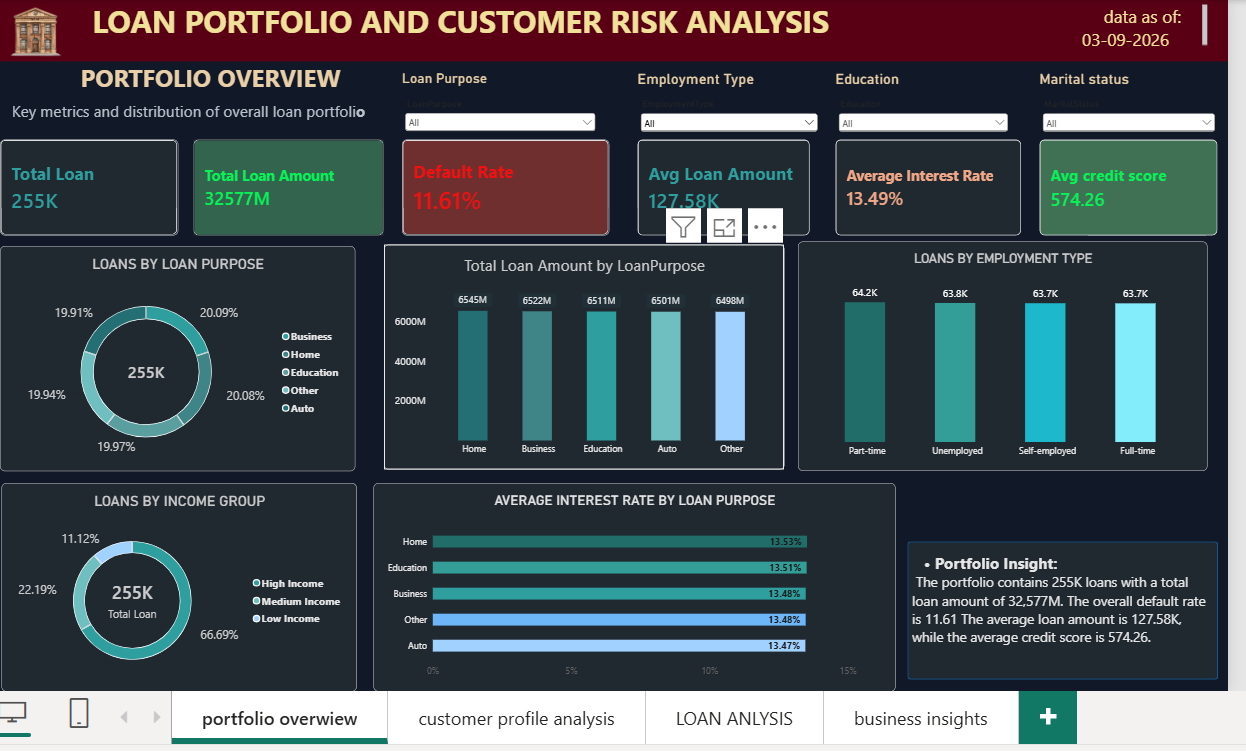

Layout of this report page (visuals, bound fields, positions):
{"tool":"powerbi","page":{"name":"portfolio overwiew","canvas":[1920,1080],"ordinal":0},"visuals":[{"type":"shape","box":[0,0,1920.1,96.1],"z":0},{"type":"textbox","box":[0,0,1920.1,96.1],"z":1000},{"type":"image","box":[0,9.4,112.5,79.7],"z":2000},{"type":"textbox","box":[1690.4,7,196.9,89.1],"z":3000},{"type":"textbox","box":[0,96.1,555.6,61],"z":4000},{"type":"textbox","box":[18.8,157.1,581.4,61],"z":5000},{"type":"slicer","title":"Loan Purpose","fields":{"Values":["Loan_data.LoanPurpose"]},"box":[628.3,110.2,307.1,107.8],"z":6000},{"type":"slicer","title":"Employment Type","fields":{"Values":["Loan_data.EmploymentType"]},"box":[996.4,110.2,286,126.6],"z":7000},{"type":"slicer","title":"Education","fields":{"Values":["Loan_data.Education"]},"box":[1305.9,110.2,274.3,126.6],"z":8000},{"type":"slicer","title":"Marital status","fields":{"Values":["Loan_data.MaritalStatus"]},"box":[1624.7,110.2,279,126.6],"z":9000},{"type":"cardVisual","fields":{"Data":["Loan_data.Total Loan"]},"box":[0,218,279,150],"z":10000},{"type":"cardVisual","fields":{"Data":["Loan_data.Total Loan Amount"]},"box":[302.4,218,297.7,150],"z":11000},{"type":"cardVisual","fields":{"Data":["Loan_data.Average Interest Rate"]},"box":[1305.9,218,290.7,150],"z":12000},{"type":"cardVisual","fields":{"Data":["Loan_data.Avg credit score"]},"box":[1624.7,218,279,150],"z":13000},{"type":"cardVisual","fields":{"Data":["Loan_data.Avg Loan Amount"]},"box":[996.4,218,269.6,150],"z":14000},{"type":"cardVisual","fields":{"Data":["Loan_data.Default Rate"]},"box":[628.3,218,324,150],"z":15000},{"type":"donutChart","title":"LOANS BY LOAN PURPOSE","fields":{"Category":["Loan_data.LoanPurpose"],"Y":["Loan_data.Total Loan"]},"box":[0,384.5,555.6,351.7],"z":16000},{"type":"donutChart","title":"LOANS BY INCOME GROUP","fields":{"Category":["Loan_data.Income group"],"Y":["Loan_data.Total Loan"]},"box":[2.3,754.9,555.6,325.9],"z":17000},{"type":"clusteredColumnChart","fields":{"Category":["Loan_data.LoanPurpose"],"Y":["Loan_data.Total Loan Amount"]},"box":[600.2,382.2,626,351.7],"z":18000},{"type":"clusteredColumnChart","title":"LOANS BY EMPLOYMENT TYPE","fields":{"Y":["Loan_data.Total Loan"],"Category":["Loan_data.EmploymentType"]},"box":[1247.3,377.5,640,358.7],"z":19000},{"type":"clusteredBarChart","title":"AVERAGE INTEREST RATE BY LOAN PURPOSE  ","fields":{"Y":["Loan_data.Average Interest Rate"],"Category":["Loan_data.LoanPurpose"]},"box":[583.8,754.9,815.9,325.9],"z":20000},{"type":"shape","box":[1418.4,846.4,485.3,215.7],"z":21000},{"type":"textbox","box":[1425.4,862.8,473.6,199.3],"z":22000}]}

Visuals, with their boxes on the page's 1920x1080 design canvas (x1, y1, x2, y2). These are canvas units, not pixel positions in the 1246x751 screenshot, which may show the page scaled, cropped or inside an application window:
shape: left=0, top=0, right=1920, bottom=96
textbox: left=0, top=0, right=1920, bottom=96
image: left=0, top=9, right=112, bottom=89
textbox: left=1690, top=7, right=1887, bottom=96
textbox: left=0, top=96, right=556, bottom=157
textbox: left=19, top=157, right=600, bottom=218
"Loan Purpose" slicer: left=628, top=110, right=935, bottom=218
"Employment Type" slicer: left=996, top=110, right=1282, bottom=237
"Education" slicer: left=1306, top=110, right=1580, bottom=237
"Marital status" slicer: left=1625, top=110, right=1904, bottom=237
cardVisual - Loan_data.Total Loan: left=0, top=218, right=279, bottom=368
cardVisual - Loan_data.Total Loan Amount: left=302, top=218, right=600, bottom=368
cardVisual - Loan_data.Average Interest Rate: left=1306, top=218, right=1597, bottom=368
cardVisual - Loan_data.Avg credit score: left=1625, top=218, right=1904, bottom=368
cardVisual - Loan_data.Avg Loan Amount: left=996, top=218, right=1266, bottom=368
cardVisual - Loan_data.Default Rate: left=628, top=218, right=952, bottom=368
"LOANS BY LOAN PURPOSE" donutChart: left=0, top=384, right=556, bottom=736
"LOANS BY INCOME GROUP" donutChart: left=2, top=755, right=558, bottom=1081
clusteredColumnChart - Loan_data.LoanPurpose x Loan_data.Total Loan Amount: left=600, top=382, right=1226, bottom=734
"LOANS BY EMPLOYMENT TYPE" clusteredColumnChart: left=1247, top=378, right=1887, bottom=736
"AVERAGE INTEREST RATE BY LOAN PURPOSE  " clusteredBarChart: left=584, top=755, right=1400, bottom=1081
shape: left=1418, top=846, right=1904, bottom=1062
textbox: left=1425, top=863, right=1899, bottom=1062
